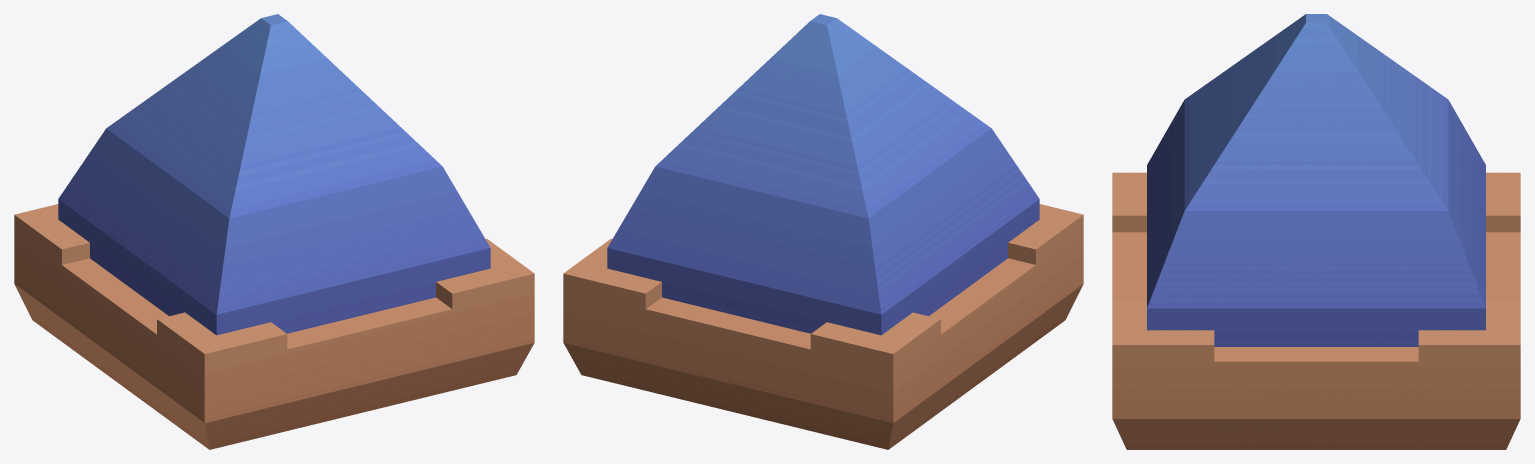
File: tower-kc-tower-square-top-roof-rounded.glb
3 views of the same model, side by side, from view 1: azimuth 30°, elevation 25°; view 2: azimuth 150°, elevation 25°; view 3: azimuth 270°, elevation 25° (orthographic). The views are drawn at different scales.
Visible parts, largest first — view 1: tower-square-top-roof-rounded; view 2: tower-square-top-roof-rounded; view 3: tower-square-top-roof-rounded.
Part boxes in pixels (<box>): tower-square-top-roof-rounded: <box>14,14,534,449</box>; tower-square-top-roof-rounded: <box>563,14,1083,449</box>; tower-square-top-roof-rounded: <box>1112,14,1520,449</box>.
Bounding box in the file's own units: 4 × 3.8 × 4.
Materials: 1 (1 with a texture image).
